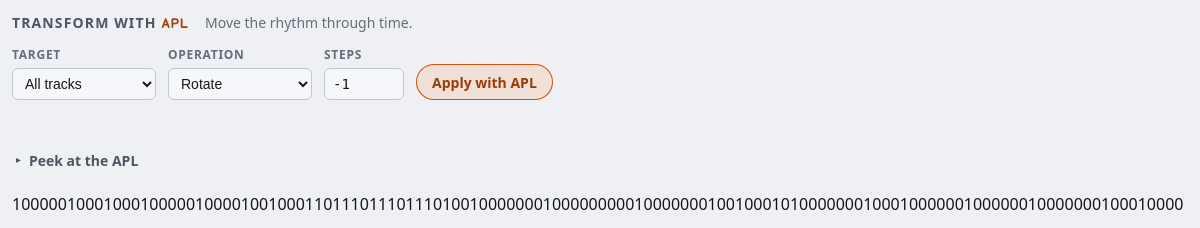
Apply › answers an identical second press from the cache
The width and height of the screenshot is (1200, 228).
Select "Reverse" in the dropdown labelled "Operation" at point(240, 84), box [168,68,312,100]
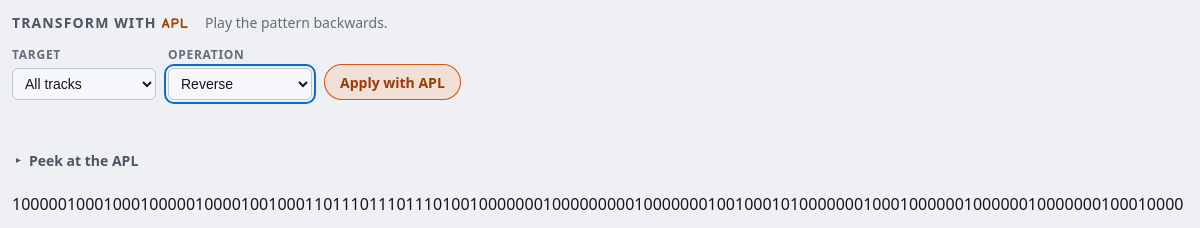
Click the button "Apply with APL" at point(392, 82), box [324,64,461,100]
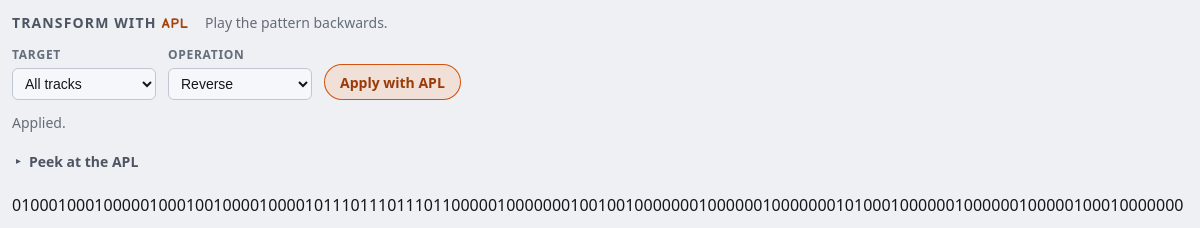
// Reversing back: a different question, so a second request.
Click the button "Apply with APL" at point(392, 82), box [324,64,461,100]
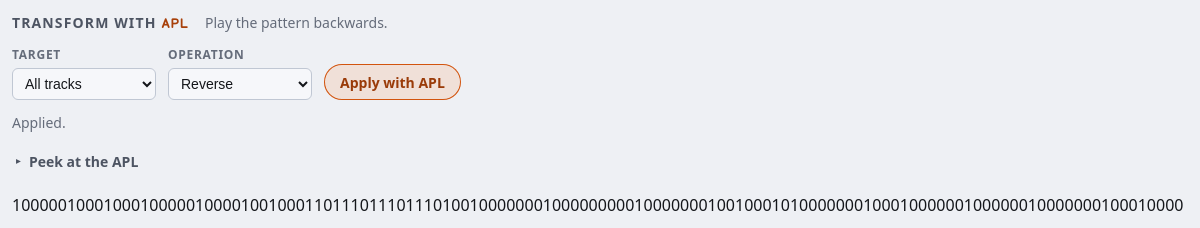
// The third press repeats the first question exactly, and must not reach the service.
Click the button "Apply with APL" at point(392, 82), box [324,64,461,100]
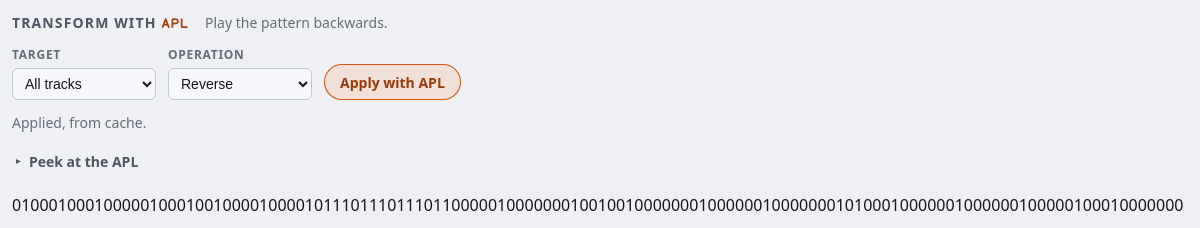
Expected: the text "Applied, from cache." is shown, [12,113,146,132]
